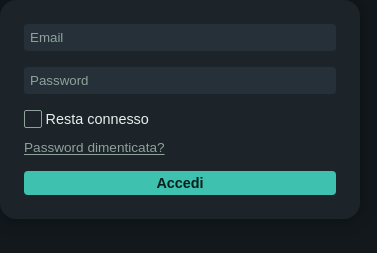
Test: AuthFormComponent › does not persist the session and shows a password error for a mismatched login
Type "demo@taskmanager.dev" into the field with placeholder "Email" at (180, 38), box [24,24,336,51]
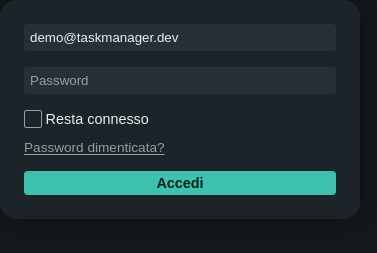
Type "wrong-password" into the password field with placeholder "Password" at (180, 80), box [24,67,336,94]
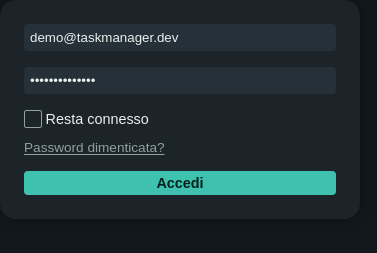
Click the button "Accedi" at (180, 183), box [24,171,336,195]
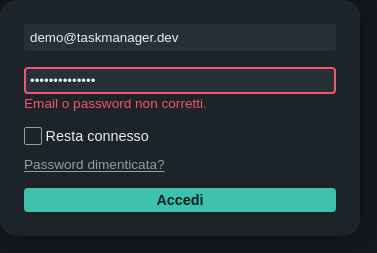
Now the text "Email o password non corretti." is shown, box [24,96,207,111]
